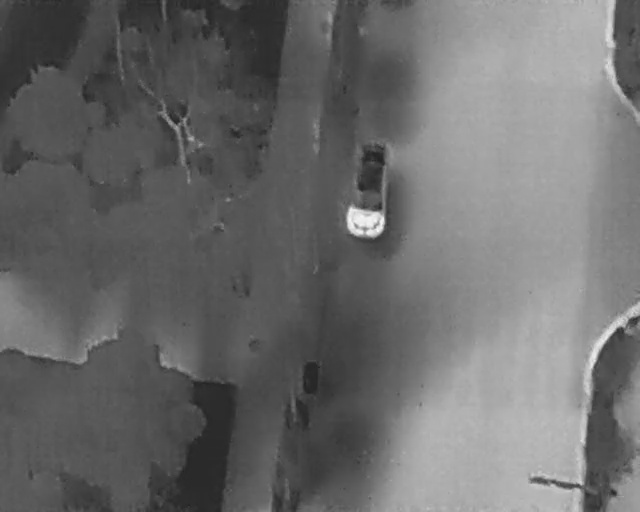Car: (342, 134, 394, 242)
